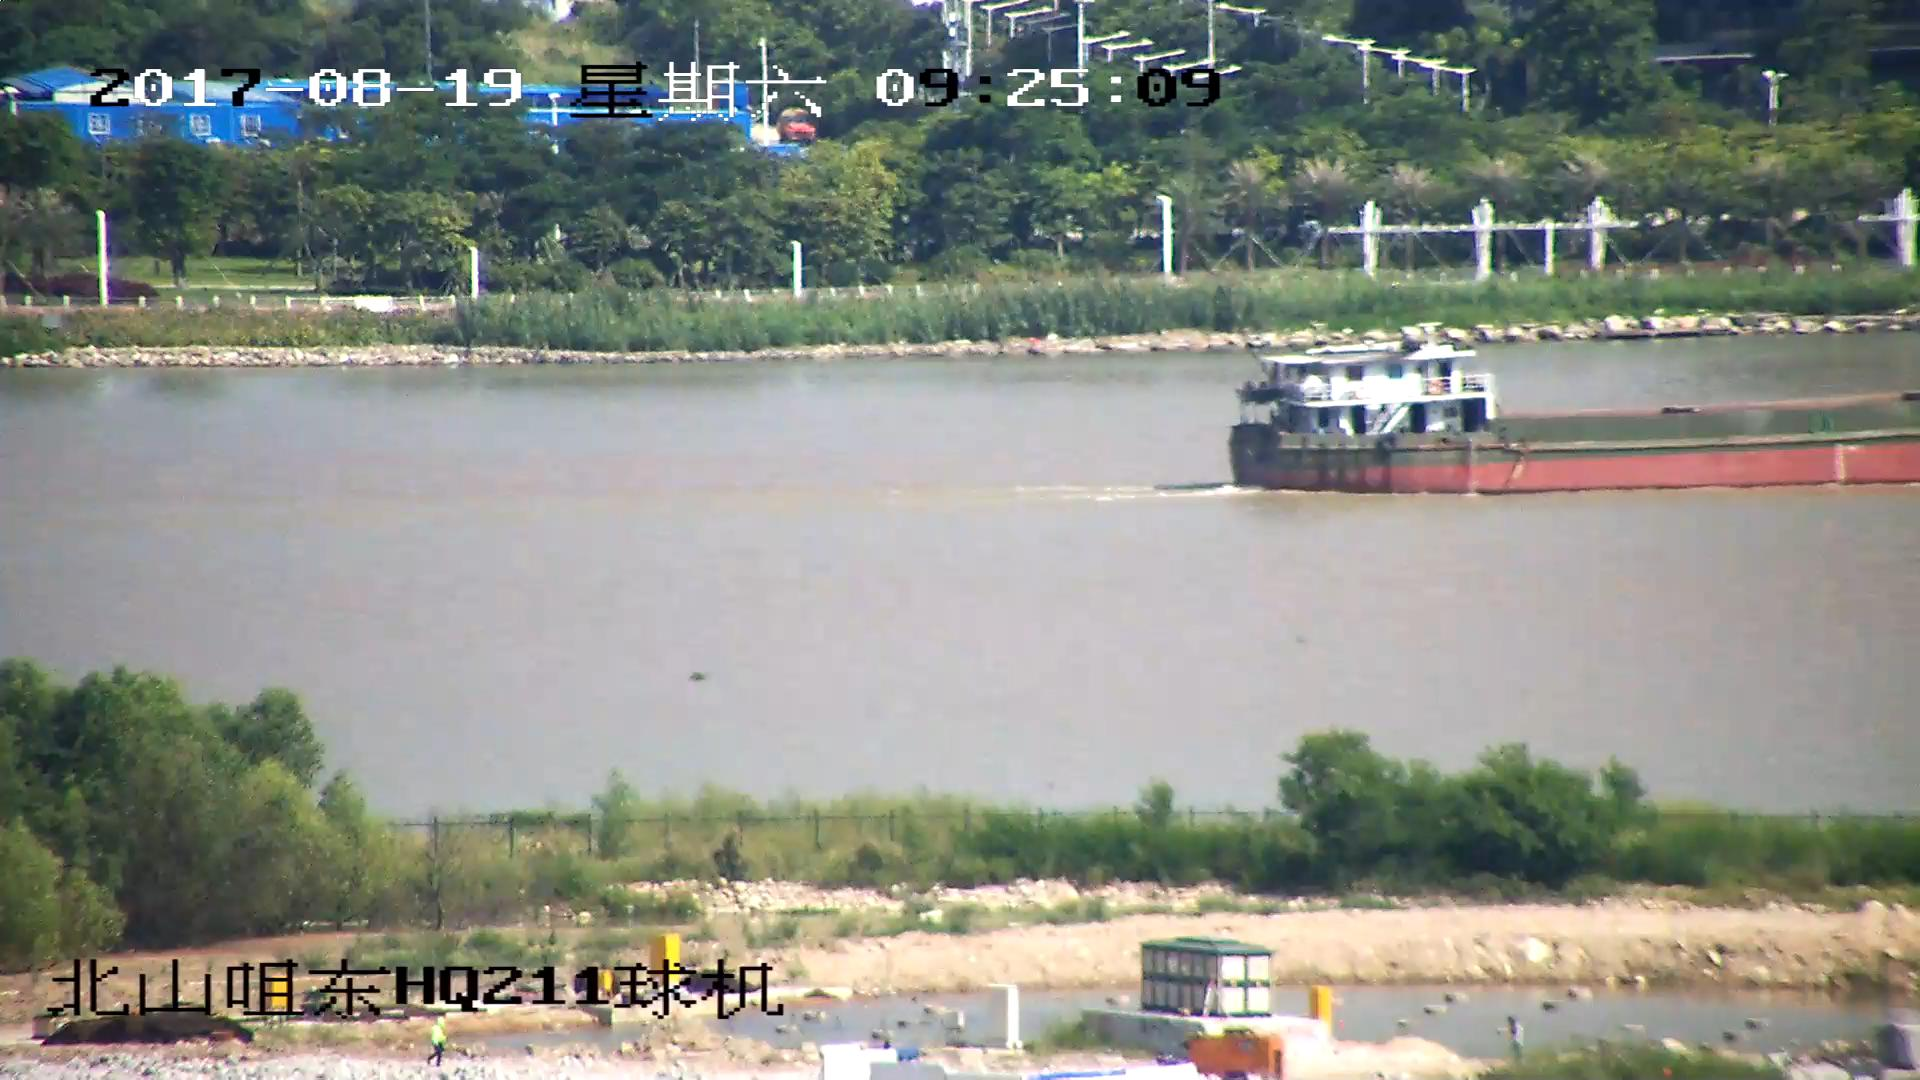bulk cargo carrier: (1216, 338, 1920, 495)
